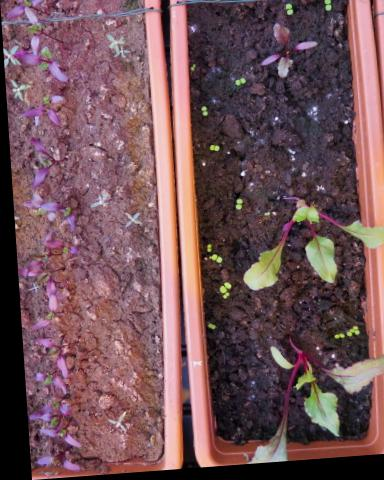weed: (98, 408, 122, 438), (117, 208, 139, 230), (230, 78, 245, 91), (204, 144, 219, 156), (282, 4, 292, 22), (229, 198, 240, 214), (322, 0, 332, 17), (199, 322, 212, 334), (197, 106, 206, 120), (327, 335, 340, 344), (200, 244, 208, 256)
